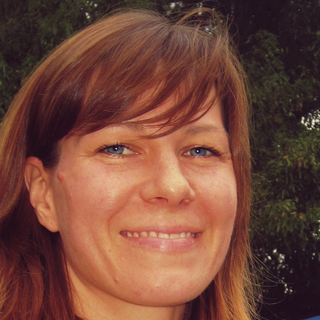eye: (91, 139, 146, 163), (176, 140, 225, 166)
